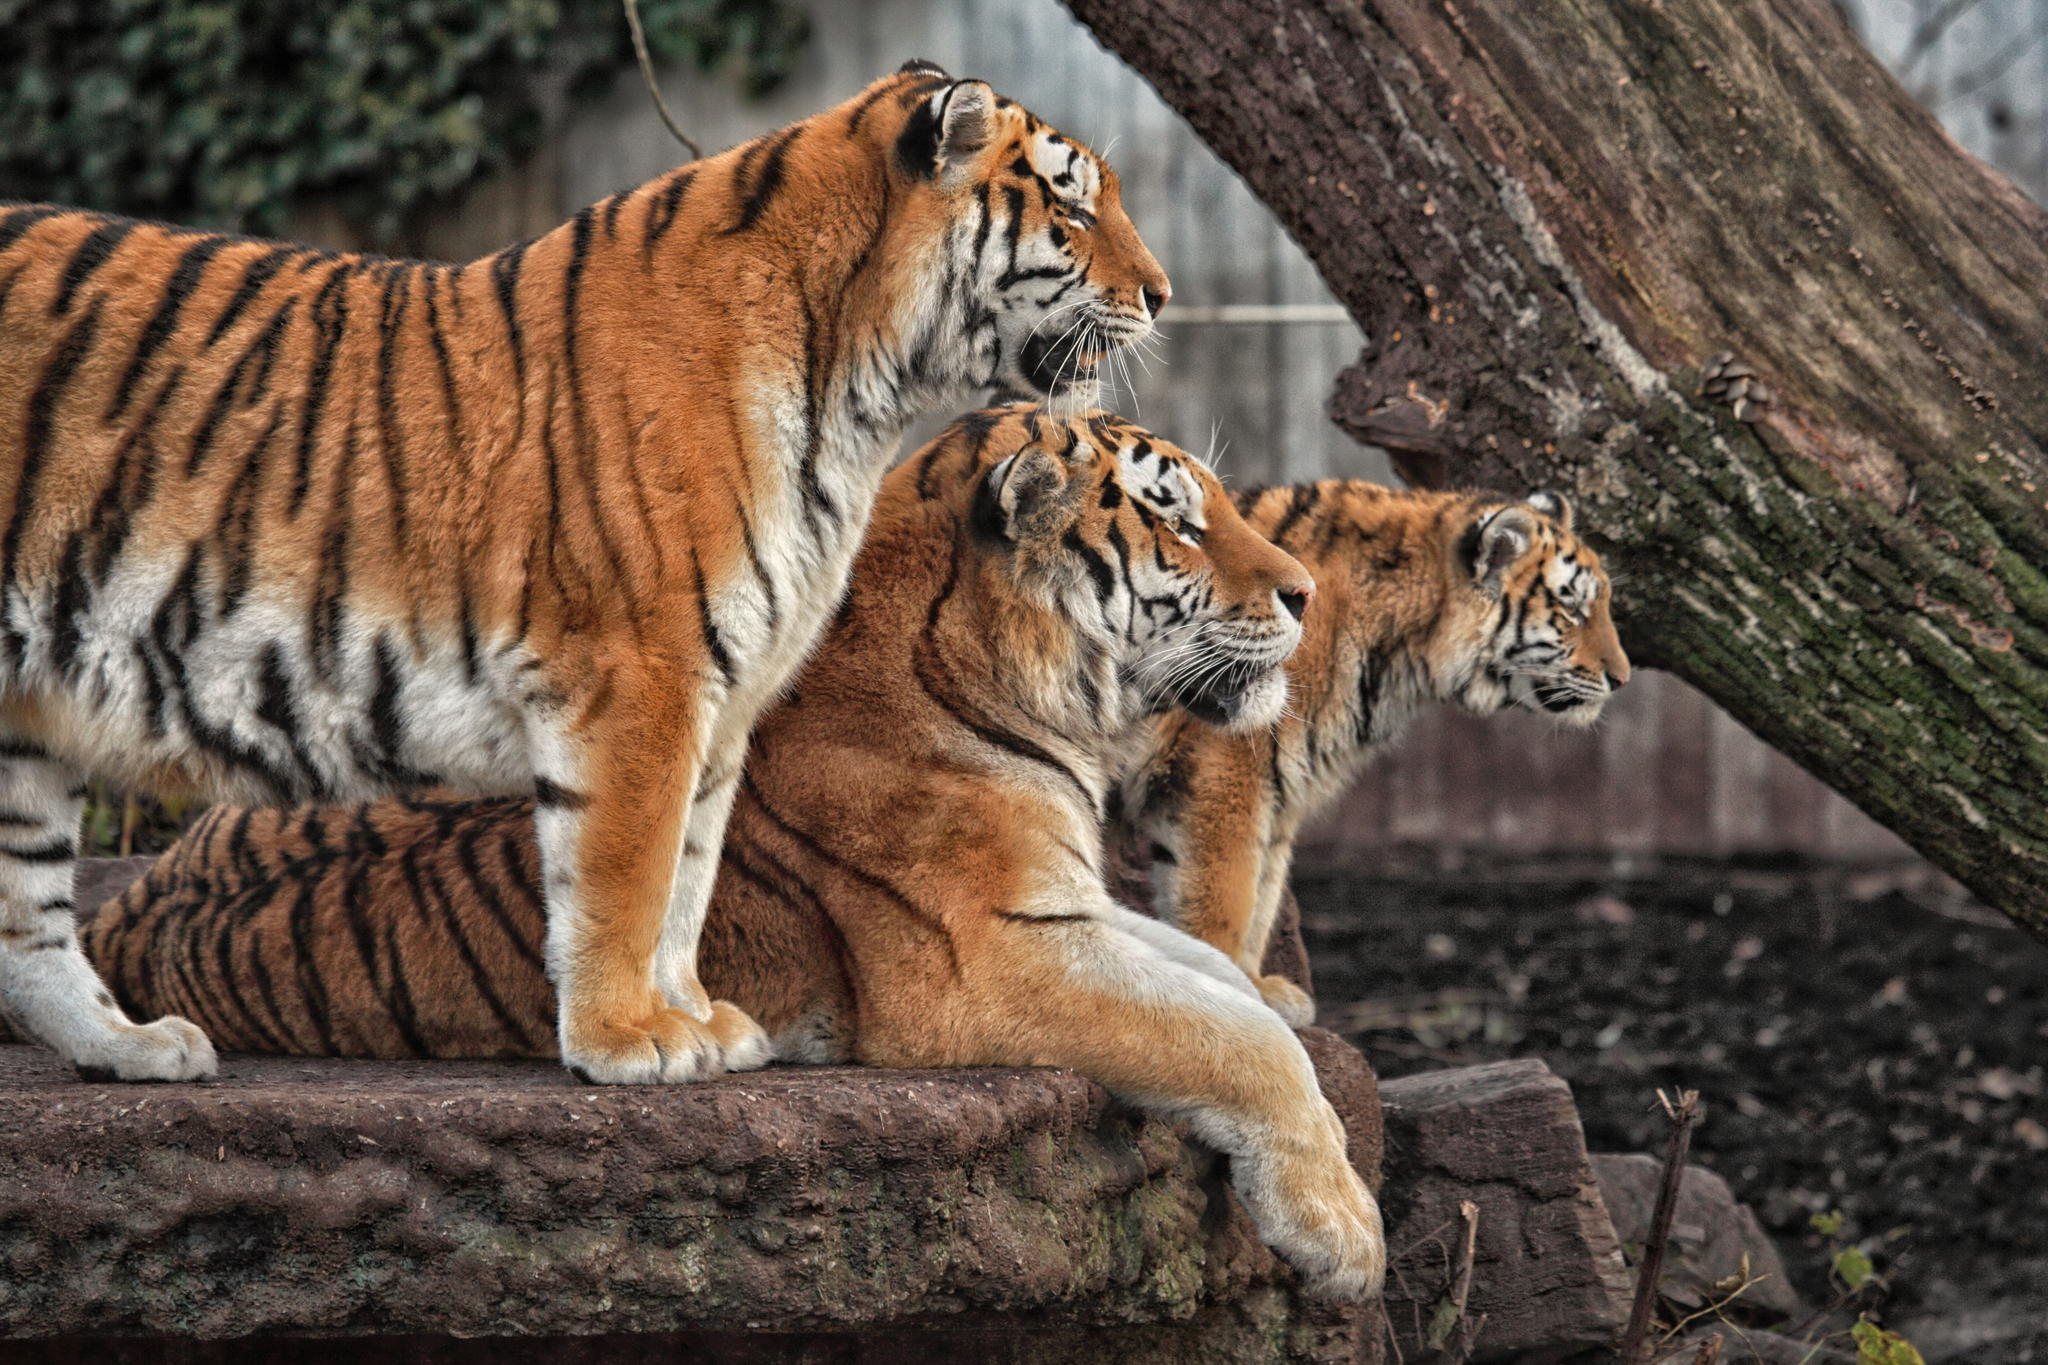tiger: (24, 62, 1156, 1112), (349, 422, 1351, 1243), (1163, 463, 1658, 983)
